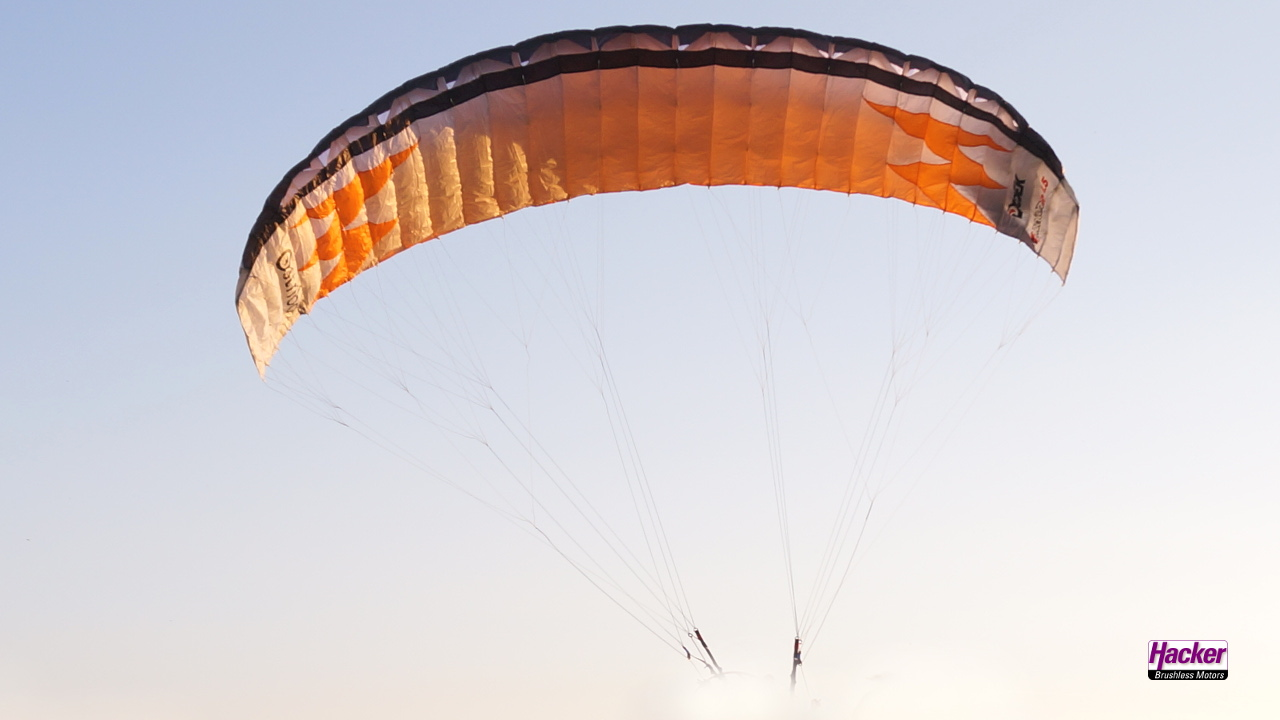Paraglider: (218, 19, 1099, 369)
